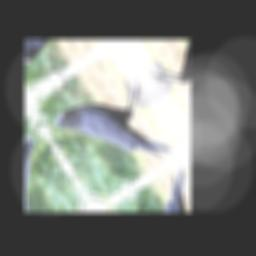Crow: (50, 66, 181, 198)
